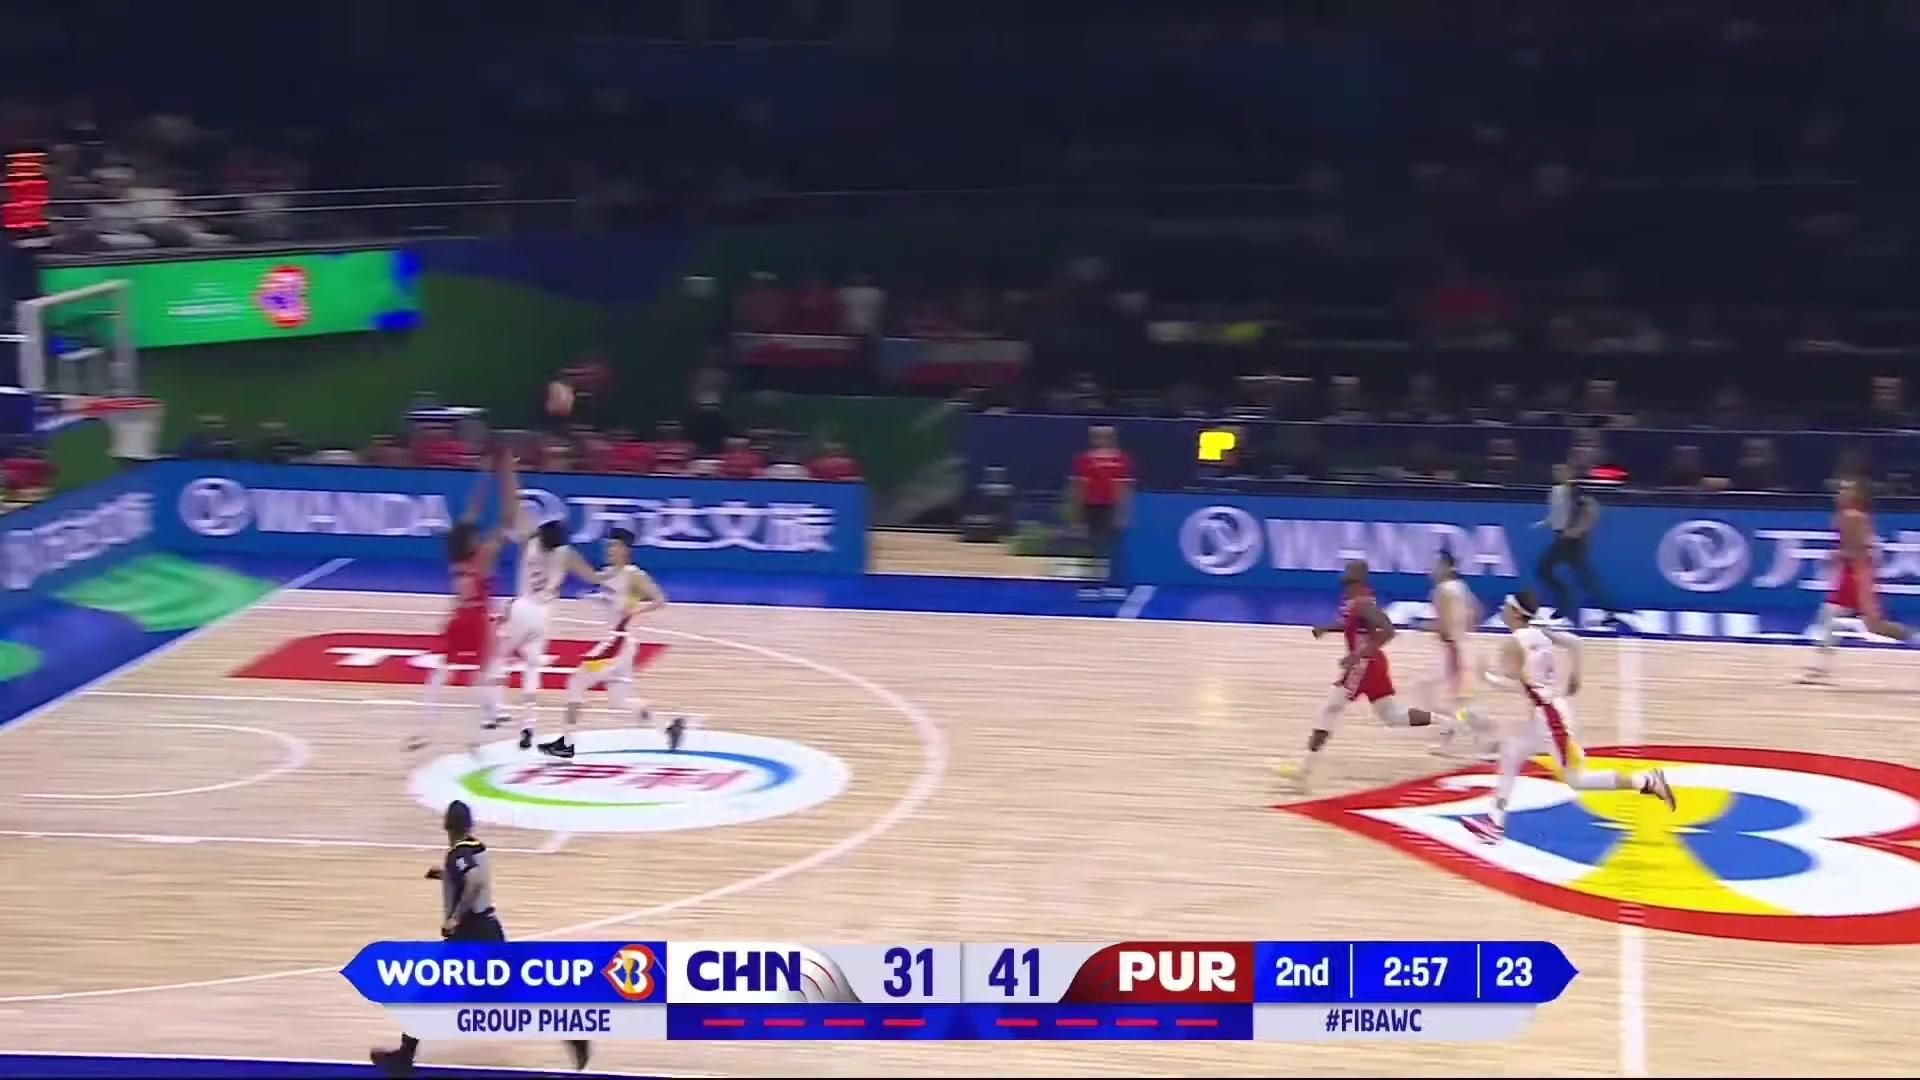no_foul: (404, 493, 582, 750)
